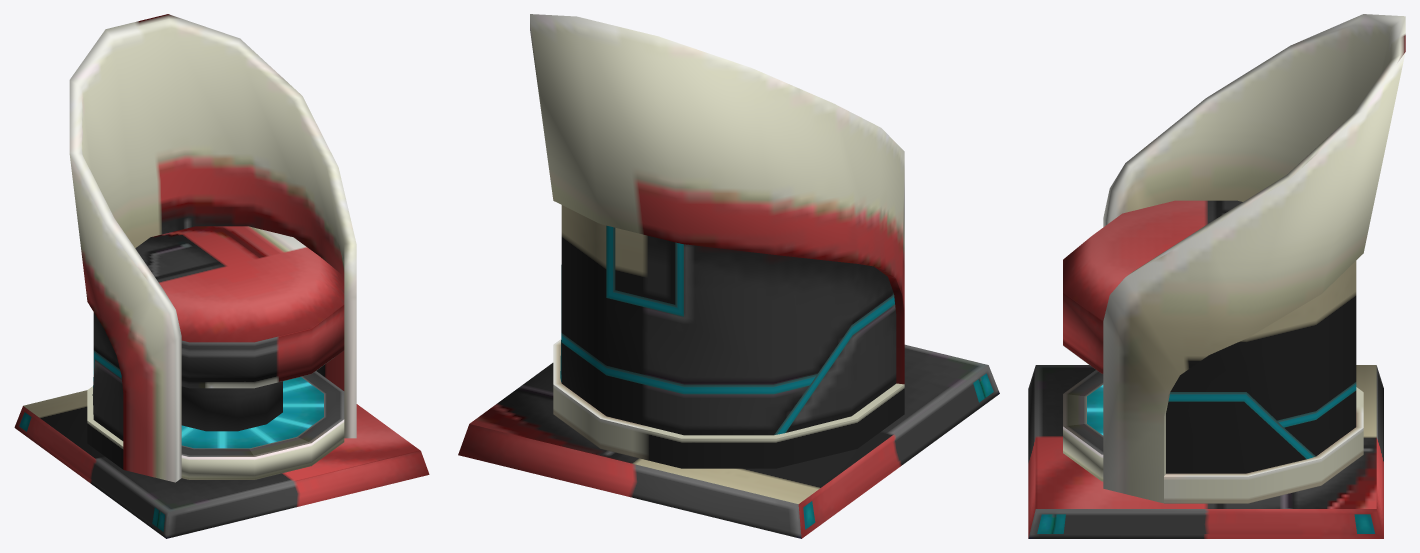
File: int_sff_chairS02.dae
The picture shows the model from 3 angles, left to right: view 1: azimuth 30°, elevation 25°; view 2: azimuth 150°, elevation 25°; view 3: azimuth 270°, elevation 25°; orthographic projection. The views are drawn at different scales.
Parts seen in each view (by area): view 1: int_sff_chairS02; view 2: int_sff_chairS02; view 3: int_sff_chairS02.
Part boxes in pixels (<box>): int_sff_chairS02: <box>14,14,429,538</box>; int_sff_chairS02: <box>458,14,999,538</box>; int_sff_chairS02: <box>1028,14,1405,538</box>.
Bounding box in the file's own units: 24 × 32 × 25.45.
Materials: 1 (1 with a texture image).
